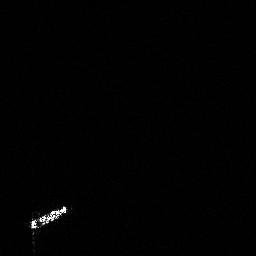ship: (25, 200, 72, 236)
